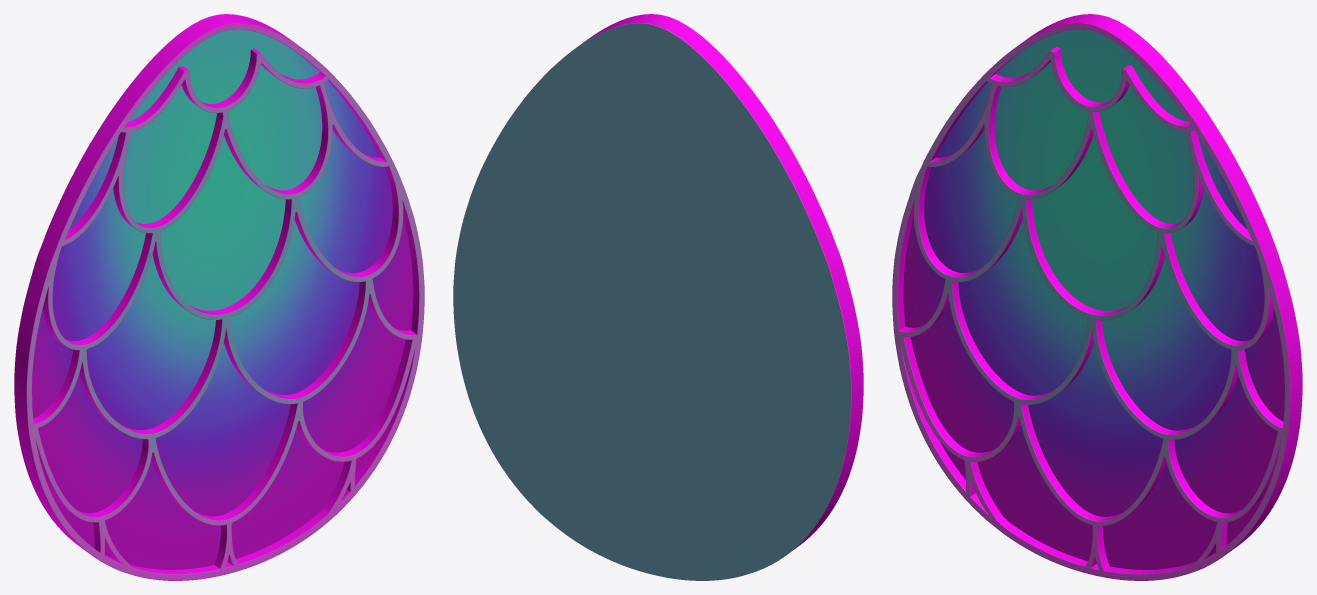
Rendered from egg.glb.
3 views of the same model, side by side, from view 1: azimuth 30°, elevation 25°; view 2: azimuth 150°, elevation 25°; view 3: azimuth 330°, elevation 25° (orthographic).
Visible parts, largest first — view 1: Plane, Retopo_Curve; view 2: Retopo_Curve; view 3: Plane, Retopo_Curve.
Boxes of the visible parts, bbox=[...] form: Plane: bbox=[32, 29, 413, 569]; Retopo_Curve: bbox=[14, 14, 424, 580]; Retopo_Curve: bbox=[453, 14, 863, 580]; Plane: bbox=[903, 29, 1284, 569]; Retopo_Curve: bbox=[892, 14, 1302, 580].
Bounding box in the file's own units: 0.1513 × 0.1997 × 0.00825.
2 materials, 2 textured.
